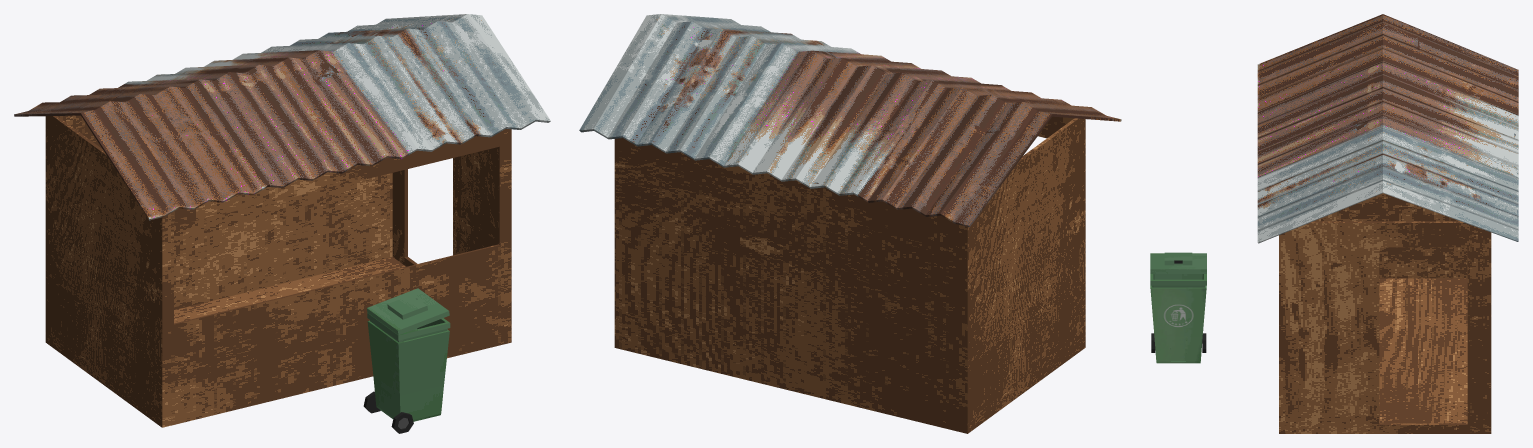
Rendered from Abandoned Payag.glb.
3 renders of one model, left to right at view 1: azimuth 30°, elevation 25°; view 2: azimuth 150°, elevation 25°; view 3: azimuth 270°, elevation 25°, orthographic. The views are drawn at different scales.
Parts seen in each view (by area): view 1: Cube, Cube.001, Cube.002, Cube.003; view 2: Cube, Cube.001; view 3: Cube, Cube.001, Cube.002, Cube.003.
Boxes of the visible parts, <box> form: Cube: <box>45,115,511,427</box>; Cube.001: <box>14,14,550,220</box>; Cube.002: <box>367,313,450,421</box>; Cube.003: <box>366,288,449,335</box>; Cube: <box>614,116,1085,433</box>; Cube.001: <box>579,14,1121,227</box>; Cube: <box>1279,193,1491,433</box>; Cube.001: <box>1257,14,1518,243</box>; Cube.002: <box>1150,274,1206,363</box>; Cube.003: <box>1150,252,1206,273</box>.
Size of the model in its own units: 8.68 by 5.86 by 7.57.
6 materials, 4 textured.
